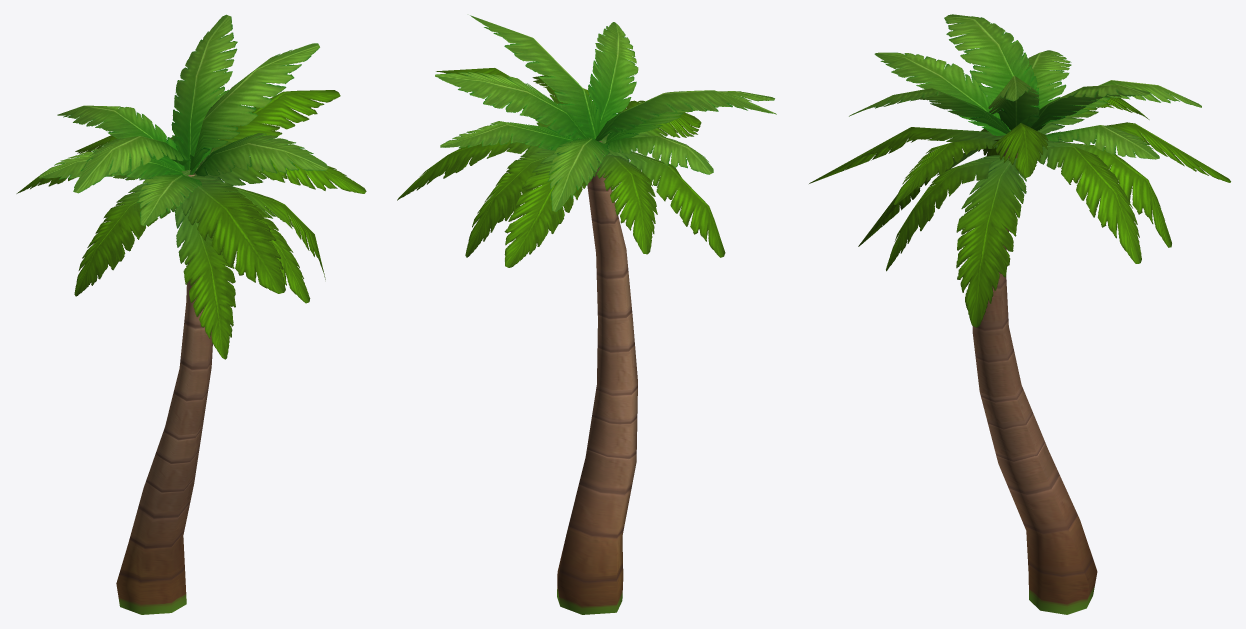
The model's file is wudaohui_yeshu02.FBX.
3 views of the same model, side by side, from view 1: azimuth 30°, elevation 25°; view 2: azimuth 150°, elevation 25°; view 3: azimuth 270°, elevation 25° (orthographic). The views are drawn at different scales.
Visible parts, largest first — view 1: wudaohui_yeshu02; view 2: wudaohui_yeshu02; view 3: wudaohui_yeshu02.
Boxes of the visible parts, x1,y1,x2,y2 form: wudaohui_yeshu02: [16, 14, 366, 614]; wudaohui_yeshu02: [397, 15, 776, 614]; wudaohui_yeshu02: [809, 14, 1230, 614].
Size of the model in its own units: 717 by 1194 by 800.
